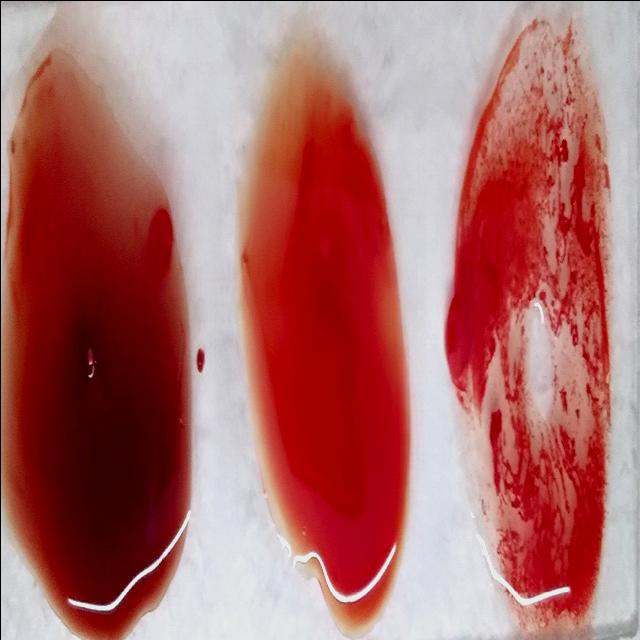D: (456, 6, 610, 612)
